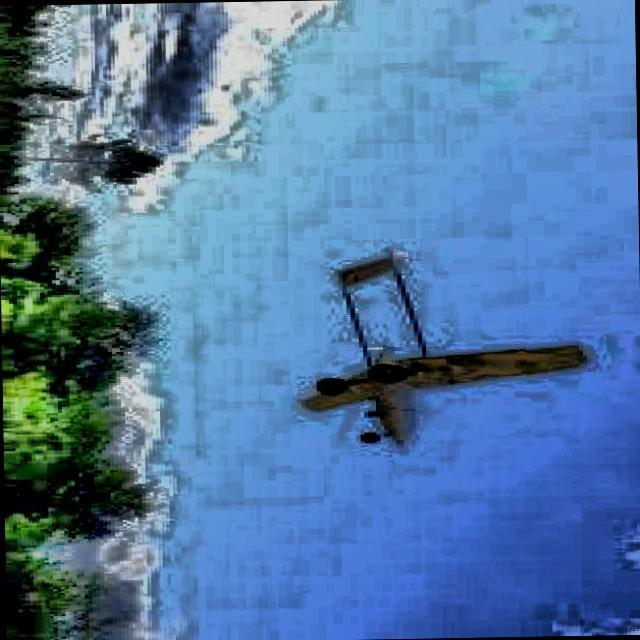iha: (296, 236, 603, 454), (333, 290, 525, 483)
